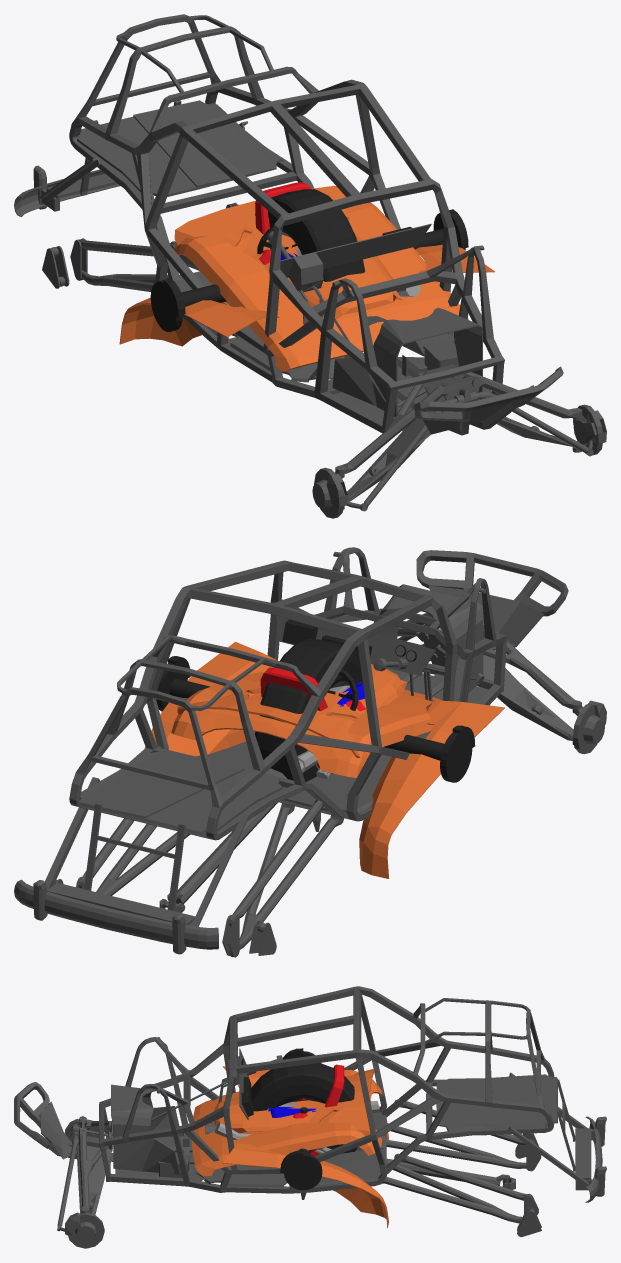
Rendered from Buggy.fbx.
The picture shows the model from 3 angles, top to bottom: view 1: azimuth 30°, elevation 25°; view 2: azimuth 150°, elevation 25°; view 3: azimuth 270°, elevation 25°; orthographic projection. The views are drawn at different scales.
Visible parts, largest first — view 1: Frame, Roof, Hood, Wheel, Differential, Chair; view 2: Frame, Hood, Roof, Wheel, Differential, Chair; view 3: Frame, Hood, Roof, Wheel, Differential, Chair, Engine.
Boxes of the visible parts, <box> form: Frame: <box>14,14,606,518</box>; Roof: <box>173,202,468,371</box>; Hood: <box>119,185,494,346</box>; Wheel: <box>255,189,365,281</box>; Differential: <box>150,209,468,331</box>; Chair: <box>255,182,311,234</box>; Frame: <box>14,547,606,957</box>; Hood: <box>144,642,504,878</box>; Roof: <box>171,672,442,777</box>; Wheel: <box>255,639,362,781</box>; Differential: <box>156,656,475,782</box>; Chair: <box>260,667,333,774</box>; Frame: <box>14,986,606,1248</box>; Hood: <box>214,1066,388,1228</box>; Roof: <box>191,1070,382,1176</box>; Wheel: <box>251,1063,357,1153</box>; Differential: <box>280,1048,322,1190</box>; Chair: <box>310,1064,344,1156</box>; Engine: <box>267,1101,333,1158</box>.
Size of the model in its own units: 3.96 by 3.29 by 9.47.
